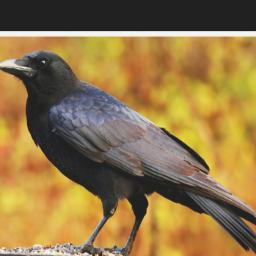Crow: (0, 47, 256, 256)
